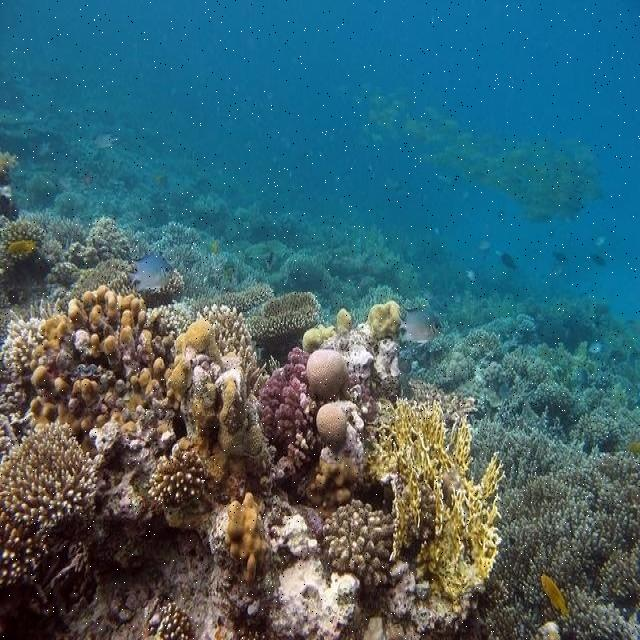fish: (396, 298, 442, 347), (128, 254, 173, 293)
reefs: (0, 73, 639, 639)
